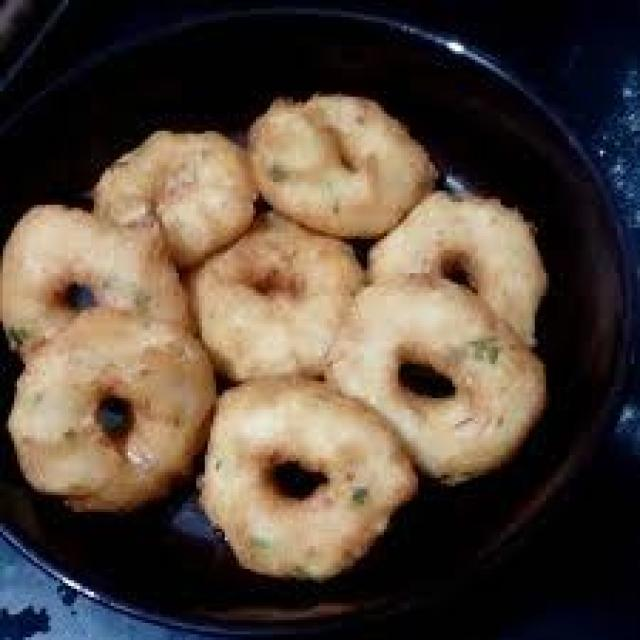medu vadai: (330, 278, 546, 485), (199, 379, 415, 577), (6, 309, 214, 512), (191, 216, 365, 383), (368, 193, 549, 349), (247, 92, 437, 239), (0, 207, 187, 356), (95, 129, 257, 266)
